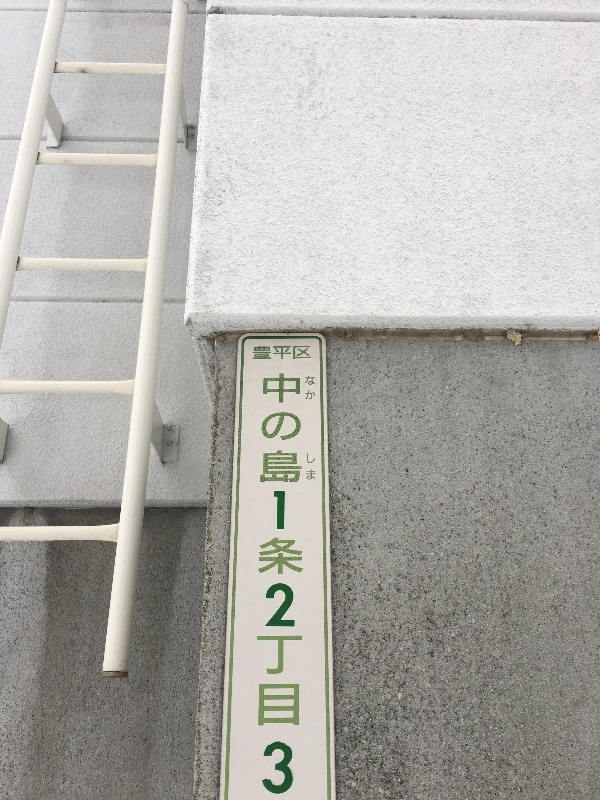text: (273, 372, 288, 795), (289, 372, 304, 795), (262, 372, 272, 795), (305, 372, 306, 795), (306, 453, 320, 483), (306, 375, 320, 403), (257, 346, 272, 360), (273, 346, 288, 360), (289, 346, 304, 360), (305, 346, 311, 360), (253, 346, 256, 360)
